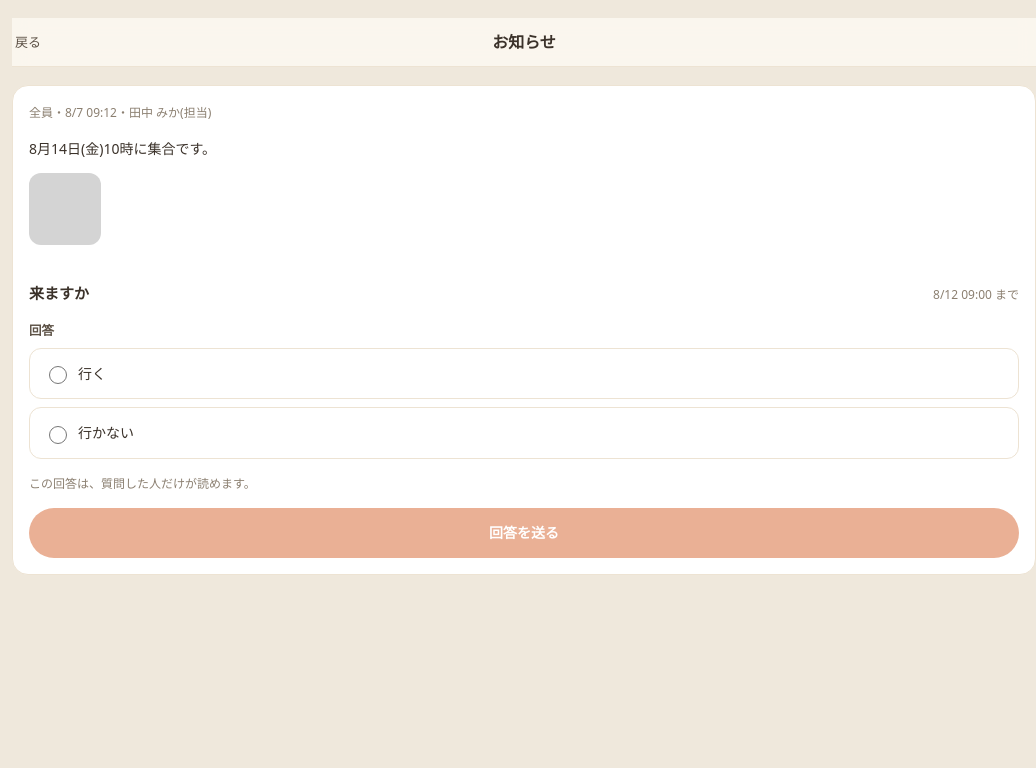
Scenario: the detail screen, as the design draws it › offers the choices as radio rows
The width and height of the screenshot is (1036, 768).
Step 1. Click the radio button with test id "form-choice" showing "行く" → (58, 375), box top-left (49, 366), bottom-right (67, 384)
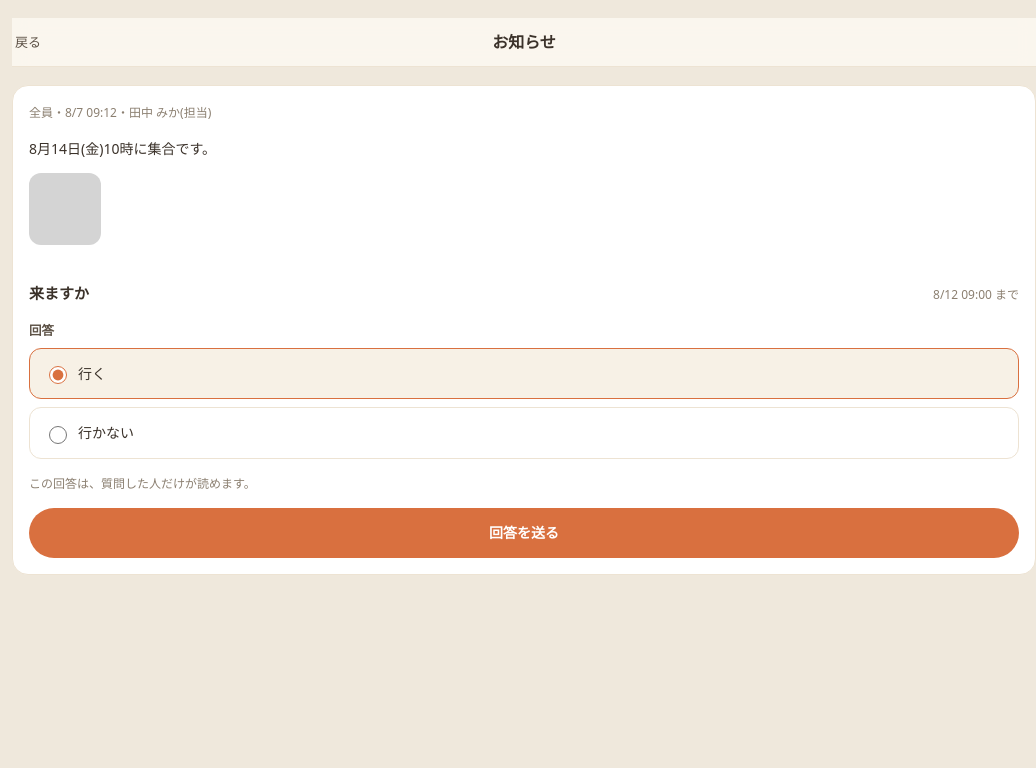
Now the button with test id "form-submit" is enabled, box top-left (29, 508), bottom-right (1019, 558)
